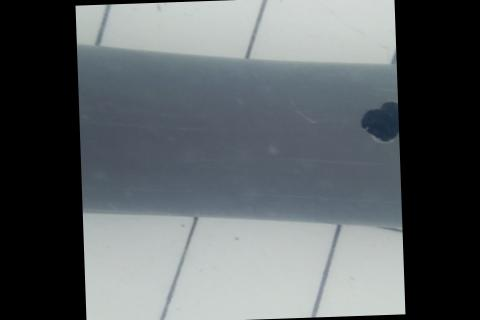kebocoran: (357, 98, 400, 146)
